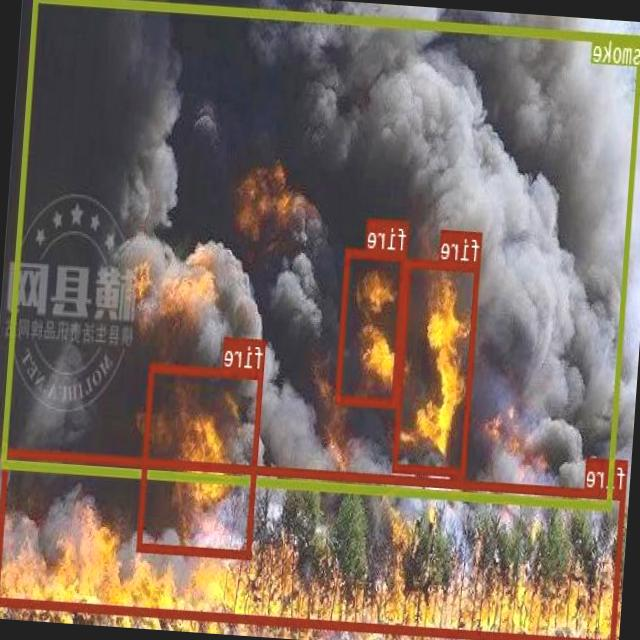fire: (0, 447, 625, 640), (137, 362, 264, 558), (392, 256, 480, 474), (336, 246, 407, 405)
smoke: (1, 0, 640, 509)
